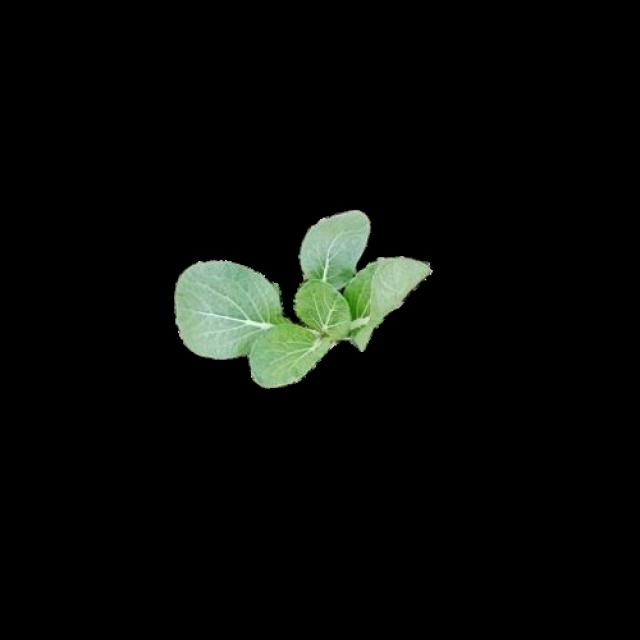healthy: (173, 210, 426, 381)
not-mature: (175, 212, 429, 384)
